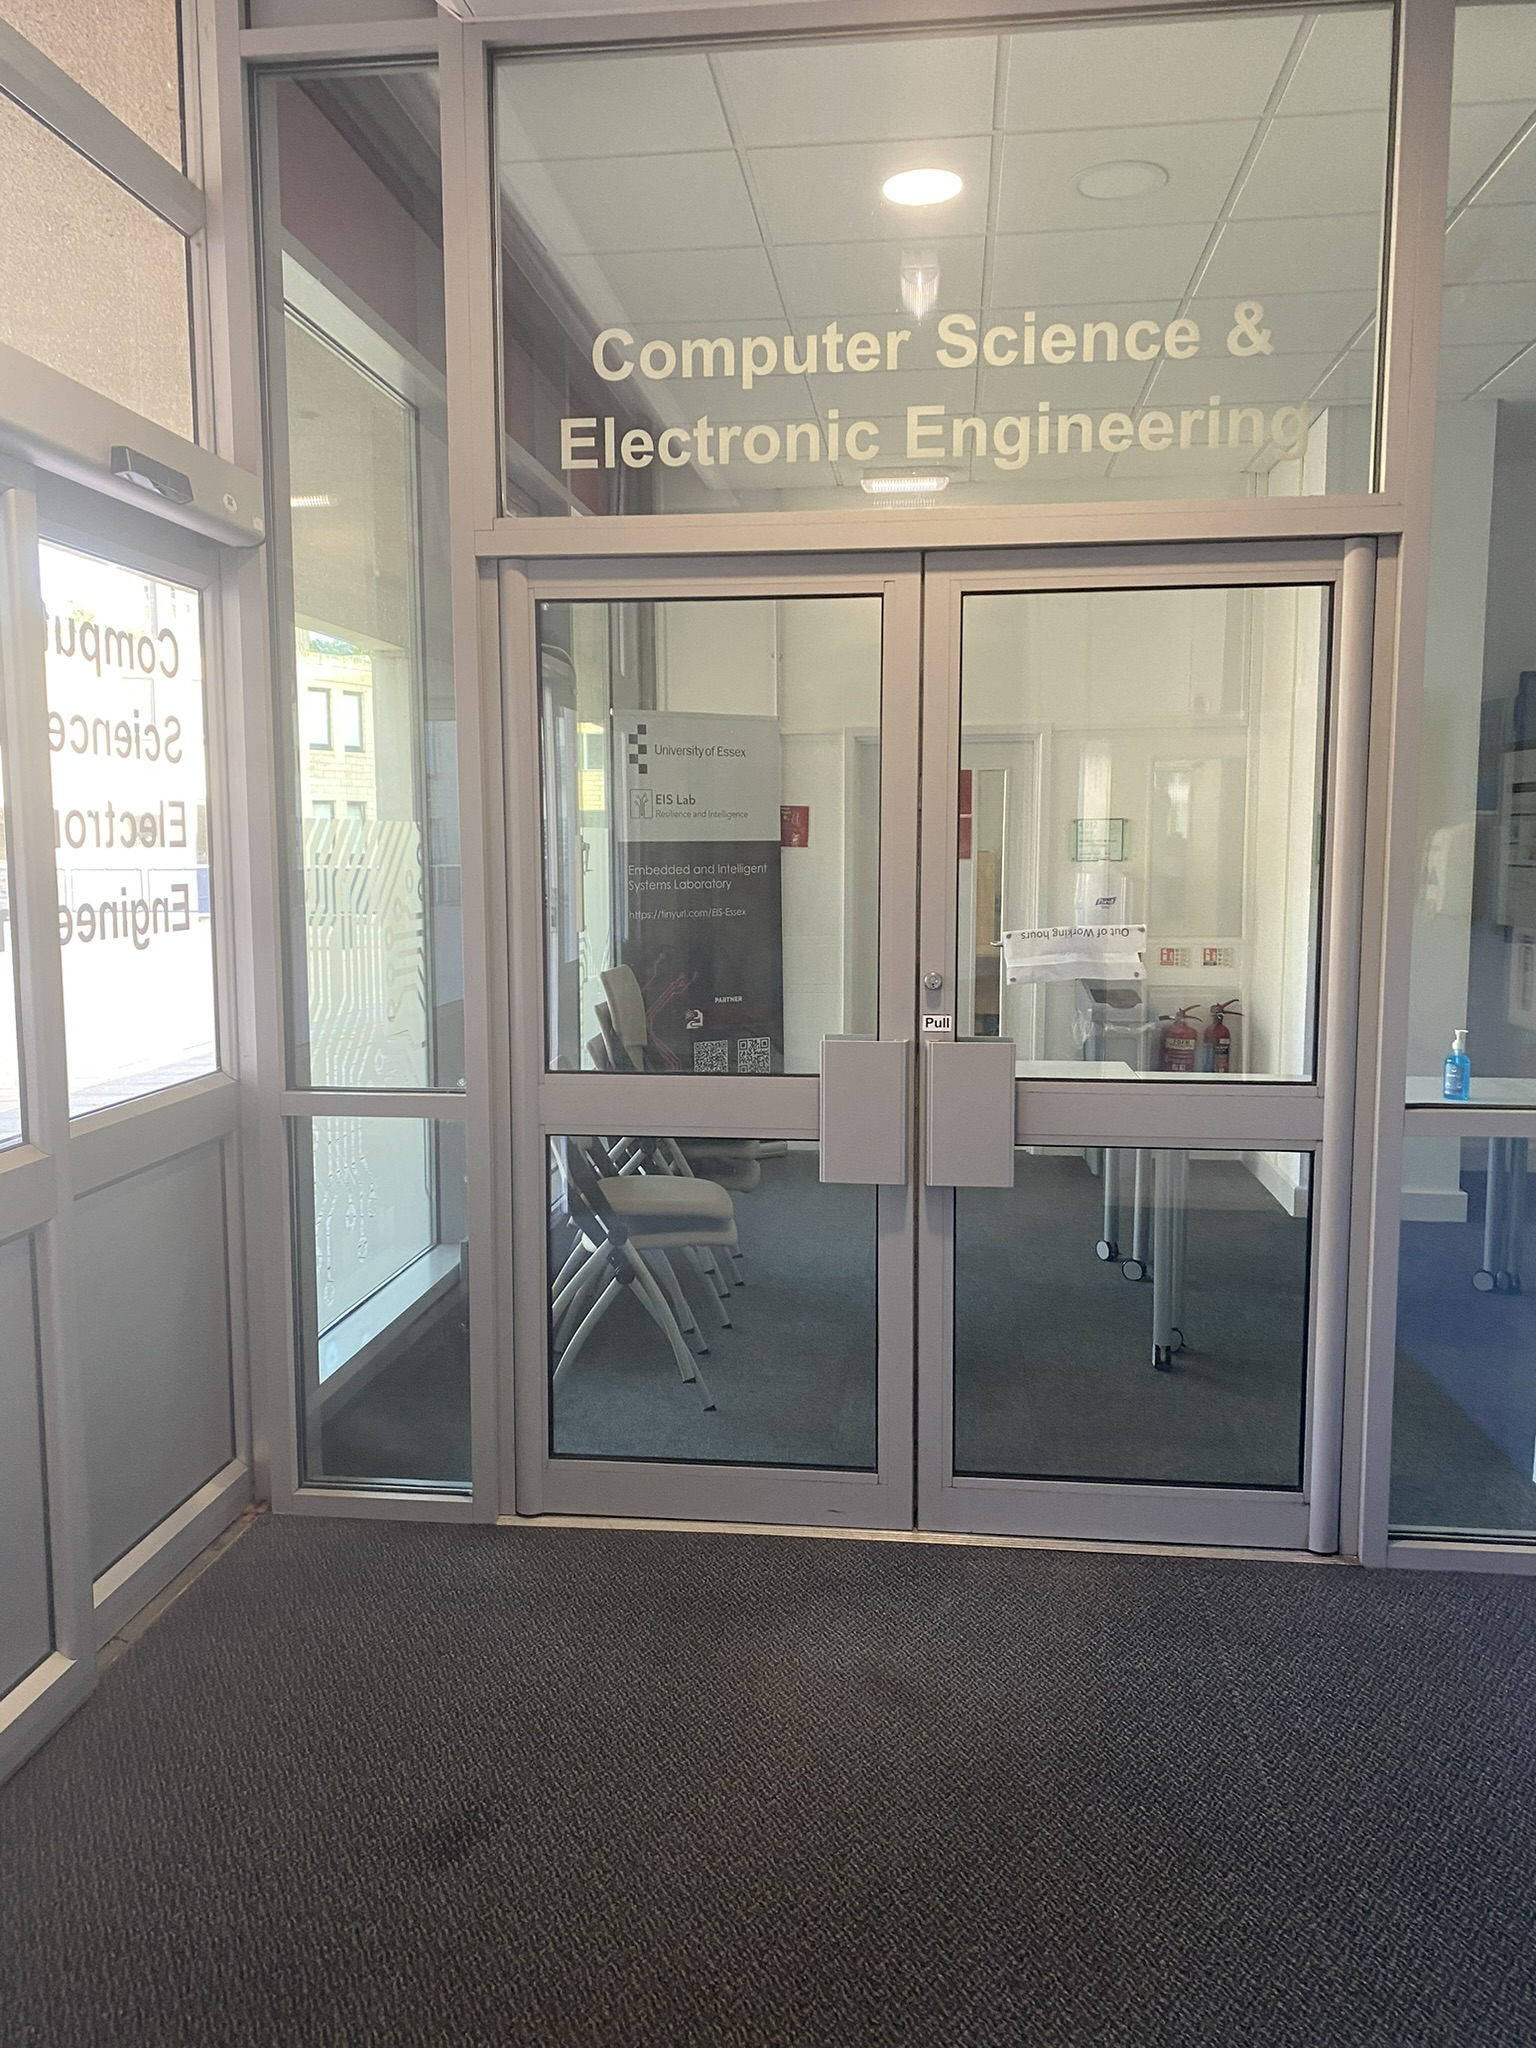door: (482, 556, 1383, 1593)
